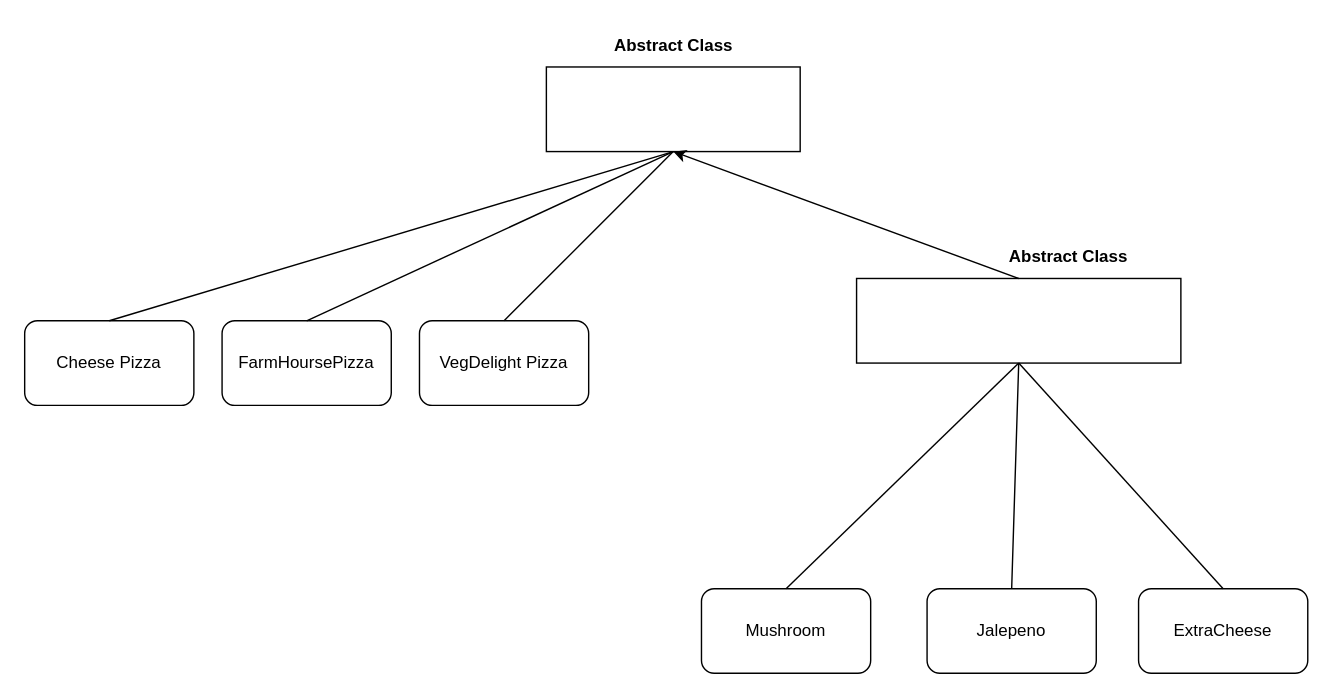
Some shapes in this 1332 by 698 pixel diagram are drawn without their labels. The shapes that lost their labels are listed below. From the top down, each one's box as (x1, y1, x2, y2) in pixels, then its label:
(545, 66, 800, 152): <<Base Pizza>>
(855, 277, 1181, 363): <<ToppingDecorator>>
